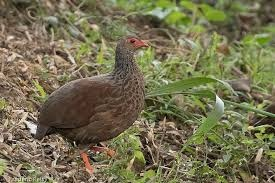bird: (30, 34, 151, 177)
